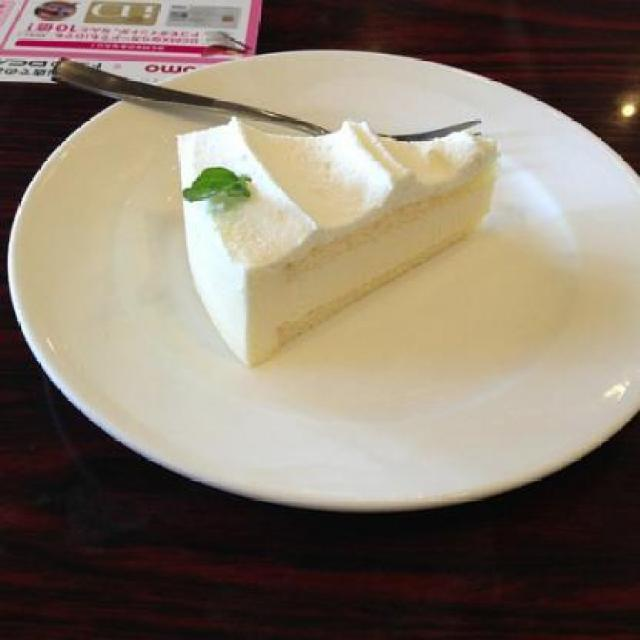Rare cheese cake: (111, 102, 540, 404)
